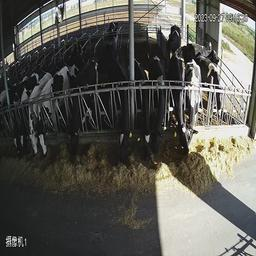cow: (104, 49, 133, 165), (66, 45, 95, 158), (169, 48, 191, 161), (197, 44, 228, 123), (149, 48, 168, 163), (38, 60, 59, 162), (186, 53, 206, 153), (134, 51, 152, 161), (23, 62, 40, 156), (4, 58, 20, 157), (166, 18, 184, 48)
